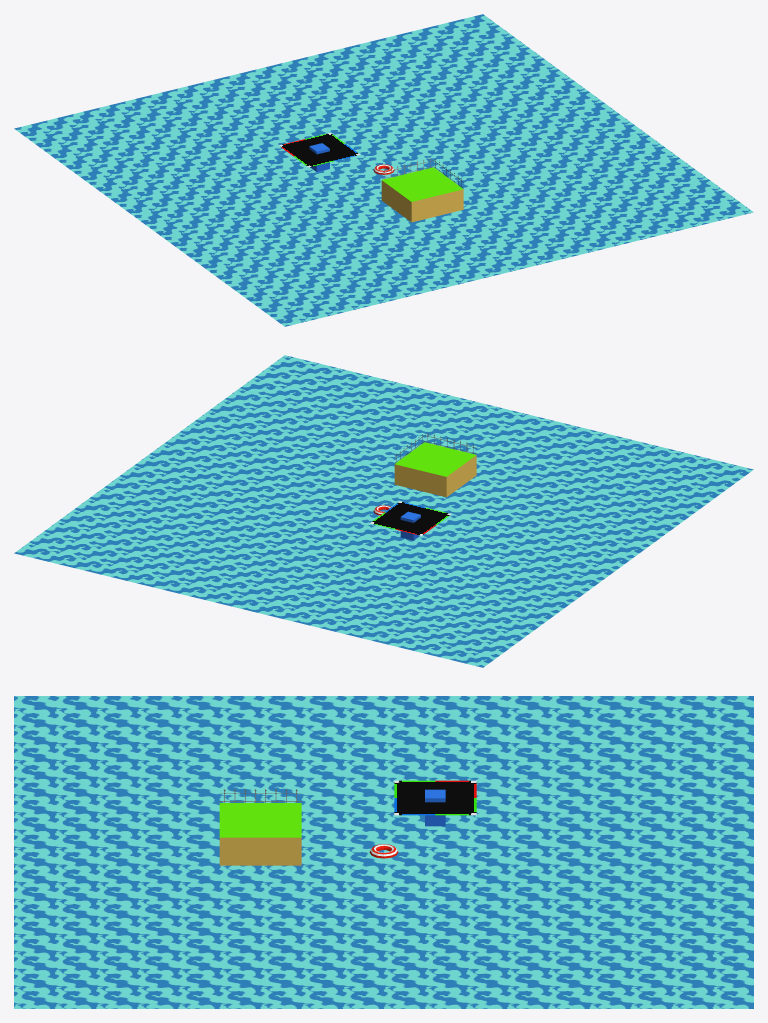
Rendered from transparency.gltf.
3 renders of one model, top to bottom at view 1: azimuth 30°, elevation 25°; view 2: azimuth 150°, elevation 25°; view 3: azimuth 270°, elevation 25°, orthographic. The views are drawn at different scales.
Visible parts, largest first — view 1: Water, Cube, Plane.001; view 2: Water, Cube, Plane.001; view 3: Water, Cube, Plane.001, Cube.001.
Boxes of the visible parts, x1,y1,x2,y2 form: Water: (14,14,753,326); Cube: (381,167,463,222); Plane.001: (279,133,360,167); Water: (14,355,753,667); Cube: (394,442,476,497); Plane.001: (370,501,451,535); Water: (14,696,753,1008); Cube: (219,803,301,865); Plane.001: (394,780,476,815); Cube.001: (425,789,445,826).
Size of the model in its own units: 72 by 10 by 72.
Materials: 4 (3 with a texture image).
